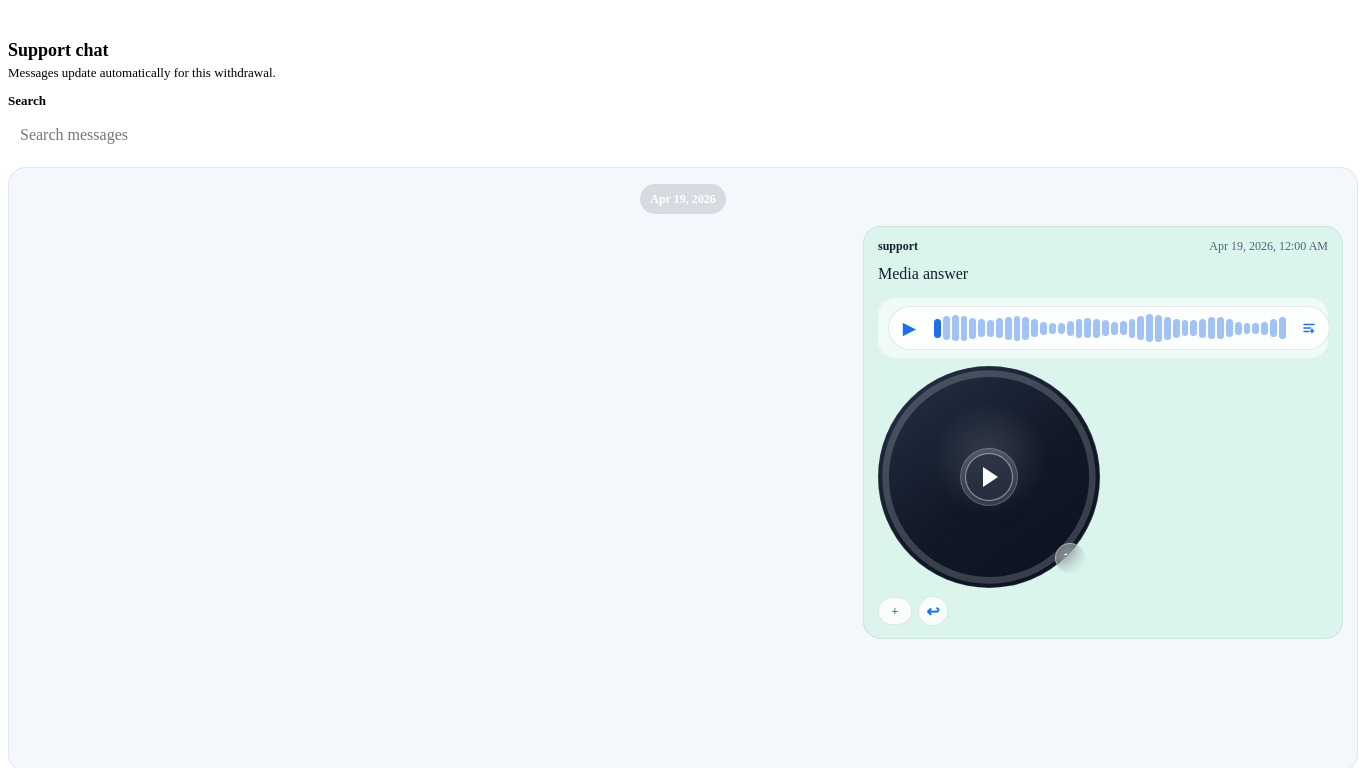
Test: withdraw ticket chat › renders media messages through the shared telegram-style timeline
Expected: the button named "Play voice message" is shown, left=894, top=313, right=924, bottom=343
Expected: the button named "Расшифровать аудио" is shown, left=1294, top=313, right=1324, bottom=343
Press the mouse on the slider named "Seek voice message voice.webm": (1110, 328) left=934, top=312, right=1286, bottom=344
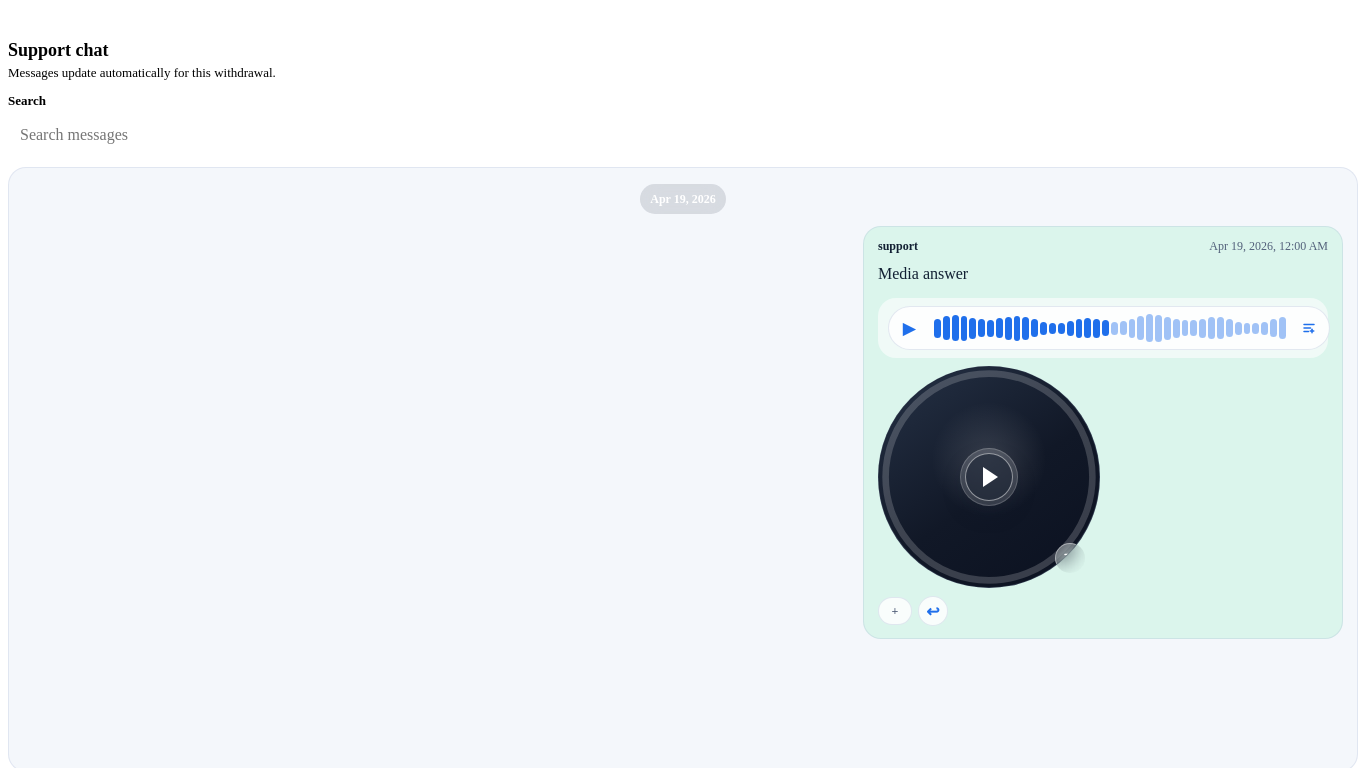
Expected: the button named "Video preview circle.webm" is shown, left=879, top=367, right=1099, bottom=587
Result: the slider named "Seek voice message voice.webm" has attribute aria-valuenow="50" at left=934, top=312, right=1286, bottom=344
Click the button named "Play video message": (989, 477) left=965, top=453, right=1013, bottom=501
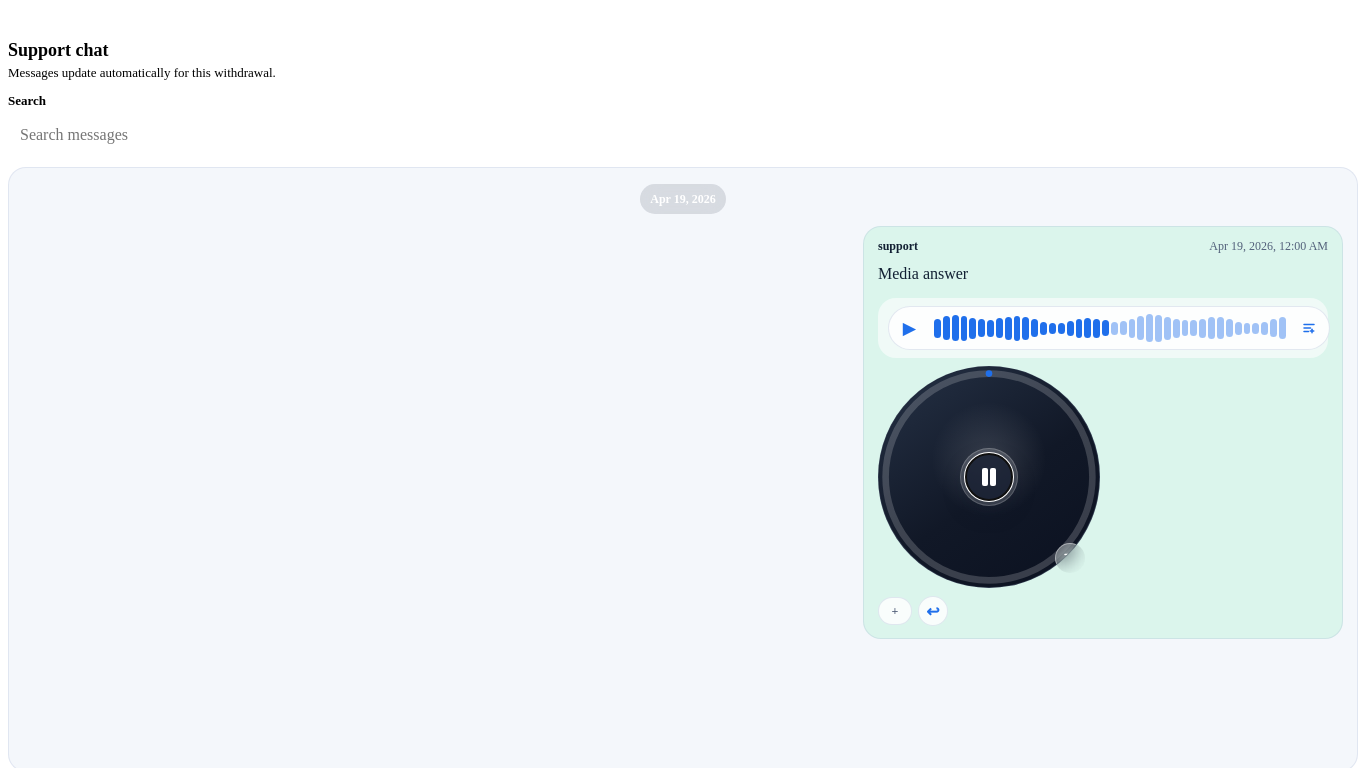
Expected: the 2nd icon is shown, left=980, top=467, right=998, bottom=487
Result: the button named "Pause video message" is shown
Click the button named "Pause video message": (989, 477) left=965, top=453, right=1013, bottom=501
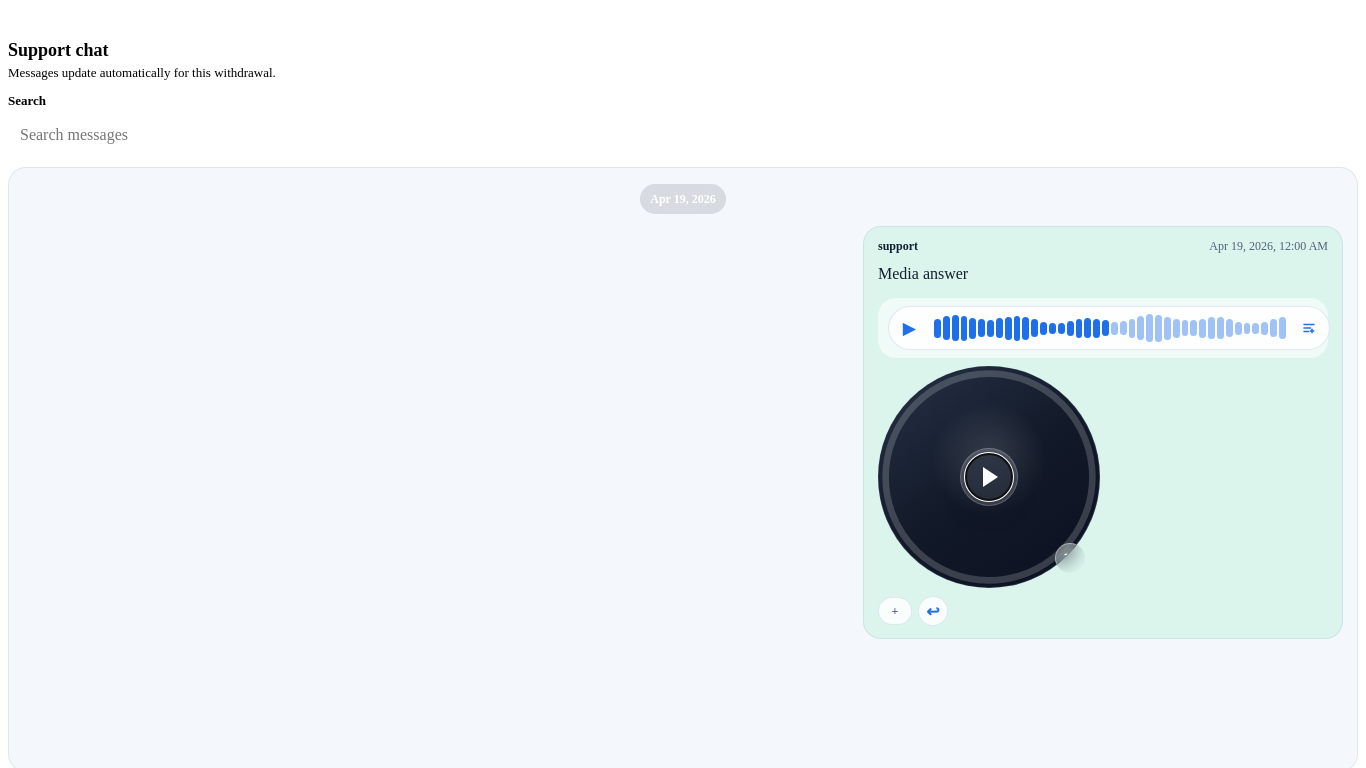
Result: the button named "Play video message" is shown at left=965, top=453, right=1013, bottom=501
Click the button named "Расшифровать видео": (1070, 558) left=1055, top=543, right=1085, bottom=573
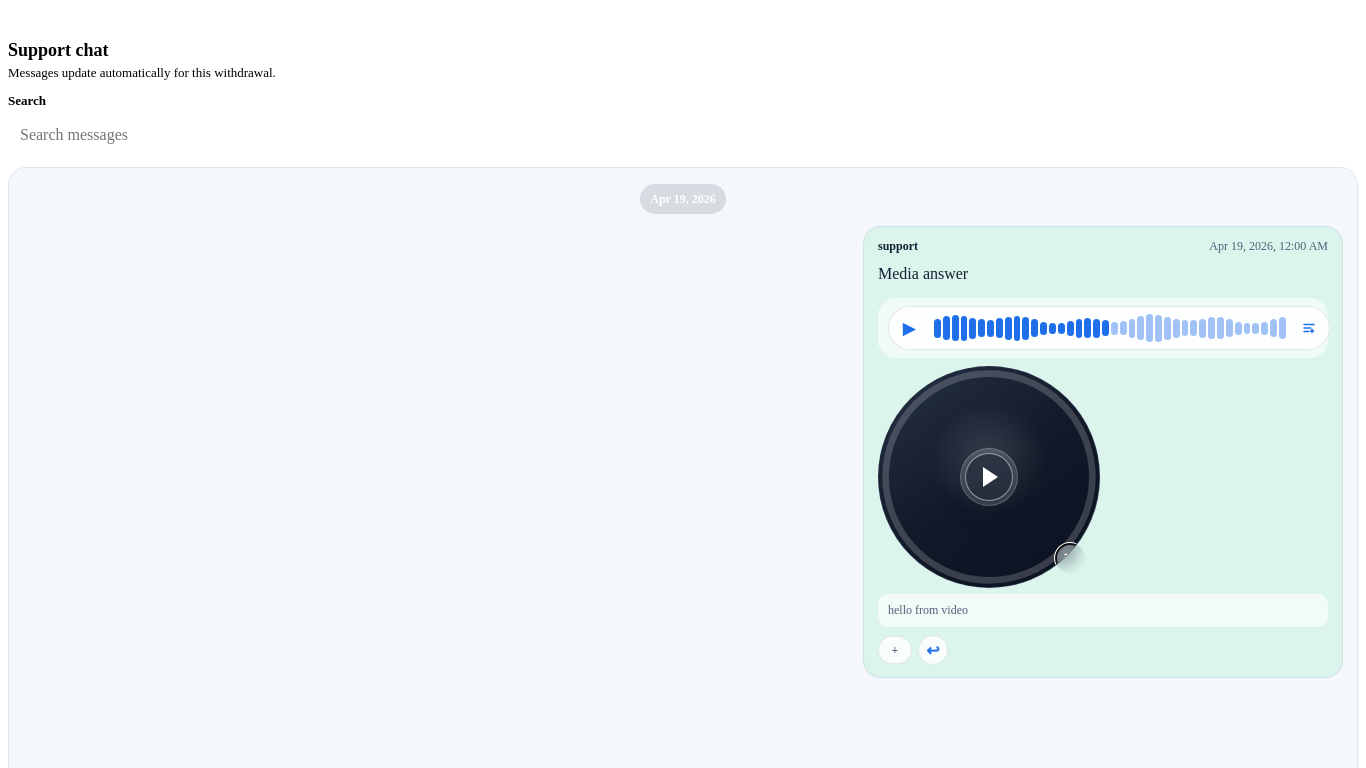
Result: the text "hello from video" is shown at left=878, top=594, right=1328, bottom=627
